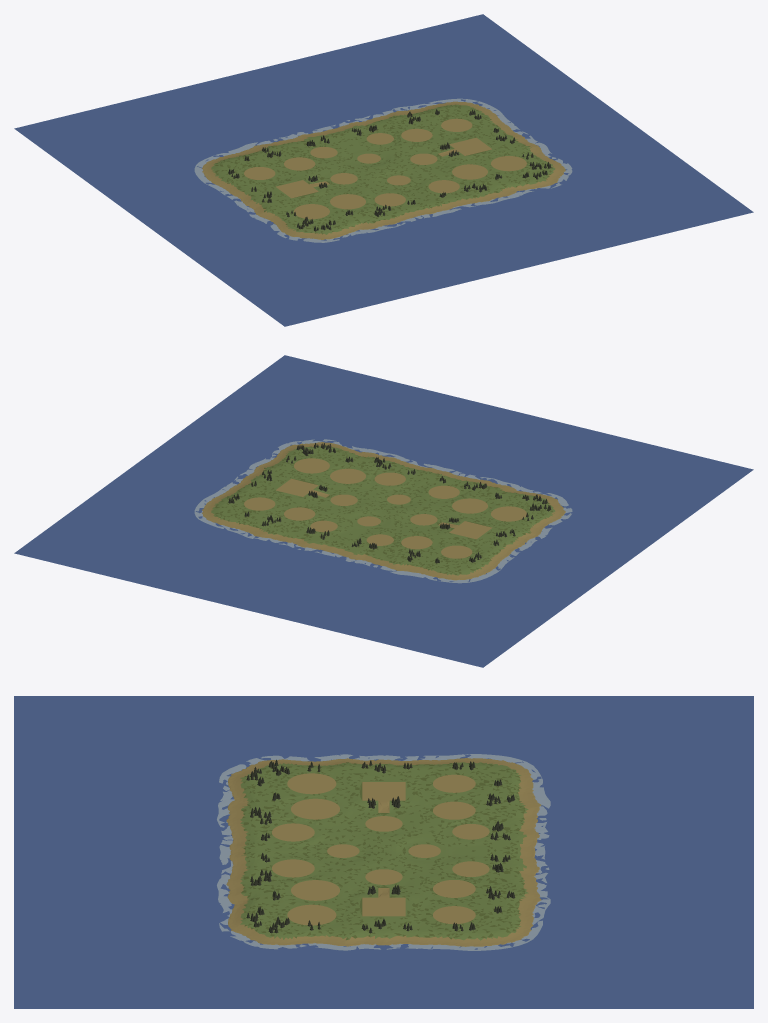
File: map.fbx
The picture shows the model from 3 angles, top to bottom: view 1: azimuth 30°, elevation 25°; view 2: azimuth 150°, elevation 25°; view 3: azimuth 270°, elevation 25°; orthographic projection. The views are drawn at different scales.
Parts seen in each view (by area): view 1: Sea, Terrain_Tile_2_2, Terrain_Tile_2_1, Terrain_Tile_1_2, Terrain_Tile_1_1, Terrain_Tile_0_1, Terrain_Tile_0_2, Terrain_Tile_2_0, Terrain_Tile_1_0, Terrain_Tile_3_1, Terrain_Tile_3_2, Terrain_Tile_2_3 (+5 smaller); view 2: Sea, Terrain_Tile_2_2, Terrain_Tile_2_1, Terrain_Tile_1_2, Terrain_Tile_1_1, Terrain_Tile_0_2, Terrain_Tile_0_1, Terrain_Tile_2_3, Terrain_Tile_1_3, Terrain_Tile_3_2, Terrain_Tile_3_1, Terrain_Tile_2_0 (+5 smaller); view 3: Sea, Terrain_Tile_1_2, Terrain_Tile_1_1, Terrain_Tile_2_2, Terrain_Tile_2_1, Terrain_Tile_3_2, Terrain_Tile_3_1, Terrain_Tile_1_0, Terrain_Tile_1_3, Terrain_Tile_0_2, Terrain_Tile_2_0, Terrain_Tile_0_1 (+5 smaller).
Part boxes in pixels (<box>): Sea: <box>14,14,753,326</box>; Terrain_Tile_2_2: <box>352,125,462,168</box>; Terrain_Tile_2_1: <box>384,149,494,192</box>; Terrain_Tile_1_2: <box>273,145,383,187</box>; Terrain_Tile_1_1: <box>306,169,415,211</box>; Terrain_Tile_0_1: <box>245,187,336,227</box>; Terrain_Tile_0_2: <box>211,164,304,203</box>; Terrain_Tile_2_0: <box>417,172,517,211</box>; Terrain_Tile_1_0: <box>337,193,439,229</box>; Terrain_Tile_3_1: <box>462,136,553,172</box>; Terrain_Tile_3_2: <box>431,112,521,148</box>; Terrain_Tile_2_3: <box>329,110,430,145</box>; Sea: <box>14,355,753,667</box>; Terrain_Tile_2_2: <box>273,489,383,533</box>; Terrain_Tile_2_1: <box>306,466,415,509</box>; Terrain_Tile_1_2: <box>352,510,462,551</box>; Terrain_Tile_1_1: <box>384,486,494,527</box>; Terrain_Tile_0_2: <box>431,528,522,569</box>; Terrain_Tile_0_1: <box>462,505,553,545</box>; Terrain_Tile_2_3: <box>249,513,350,551</box>; Terrain_Tile_1_3: <box>329,534,430,571</box>; Terrain_Tile_3_2: <box>211,478,305,513</box>; Terrain_Tile_3_1: <box>245,454,336,489</box>; Terrain_Tile_2_0: <box>337,452,439,486</box>; Sea: <box>14,696,753,1008</box>; Terrain_Tile_1_2: <box>379,793,474,851</box>; Terrain_Tile_1_1: <box>293,796,388,851</box>; Terrain_Tile_2_2: <box>379,850,474,904</box>; Terrain_Tile_2_1: <box>293,850,388,902</box>; Terrain_Tile_3_2: <box>365,898,474,946</box>; Terrain_Tile_3_1: <box>292,898,391,946</box>; Terrain_Tile_1_0: <box>226,796,297,852</box>; Terrain_Tile_1_3: <box>469,796,541,852</box>; Terrain_Tile_0_2: <box>368,758,475,800</box>; Terrain_Tile_2_0: <box>226,850,297,905</box>; Terrain_Tile_0_1: <box>293,758,390,800</box>.
Bounding box in the file's own units: 2000 × 52.31 × 2000.
